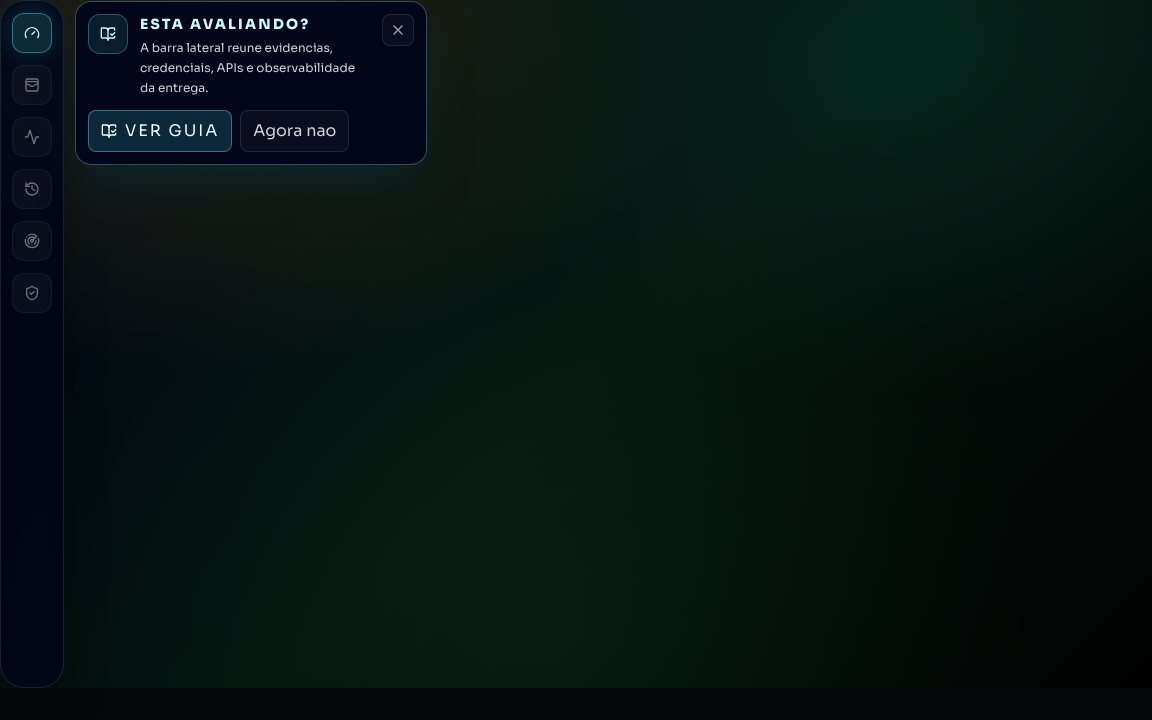
Test: ChronoRail › invites evaluators on first access and opens the delivery guide
Expected: the element named "Chamada para avaliadores" is shown, [75,1,427,165]
Click the button "Ver guia" at (160, 131), box [88,110,232,152]
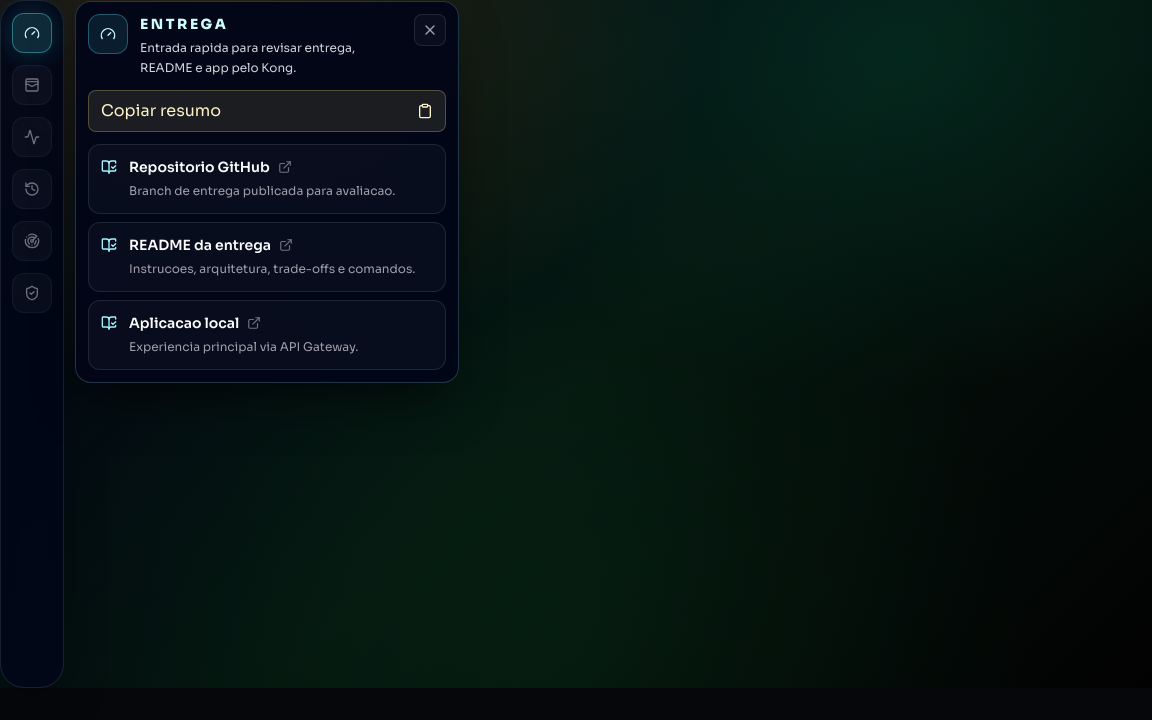
Result: the element named "Entrega do avaliador" is shown at [75,1,459,383]
